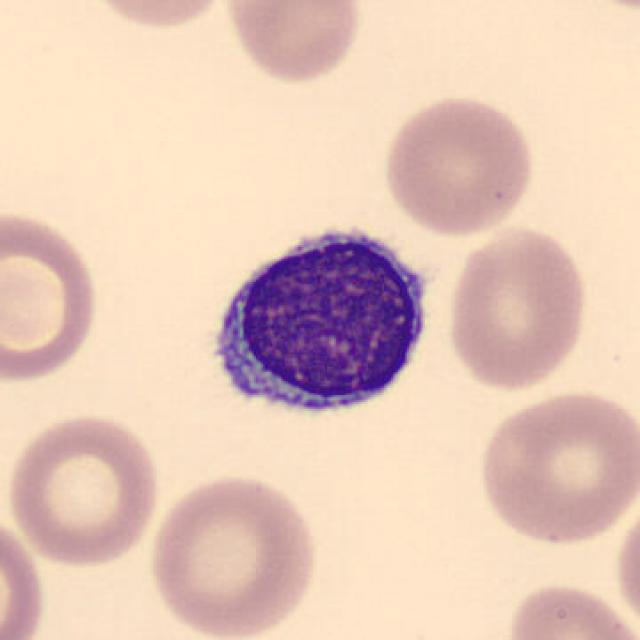Lymphocyte: (192, 207, 443, 436)
RBC: (144, 469, 324, 640), (473, 386, 638, 548), (2, 409, 164, 570), (443, 222, 592, 395), (377, 92, 539, 238), (0, 203, 103, 388), (218, 0, 366, 86), (501, 576, 638, 640), (0, 509, 50, 640), (74, 0, 234, 33), (610, 488, 640, 638)
